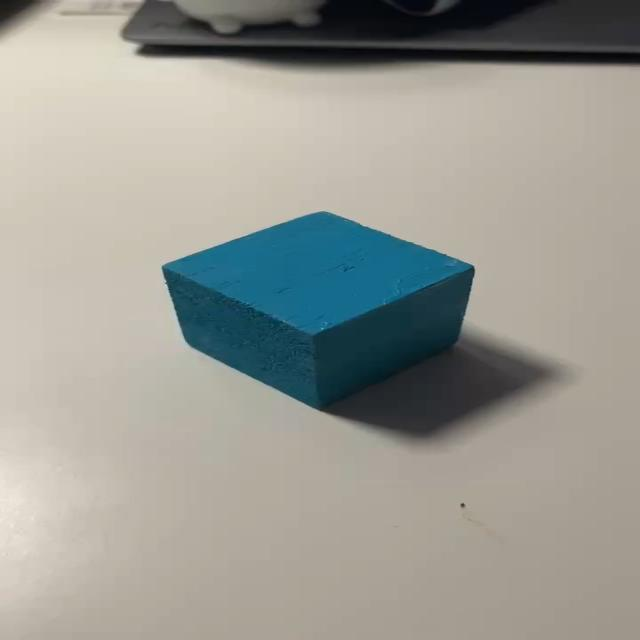blue_block: (160, 207, 482, 410)
